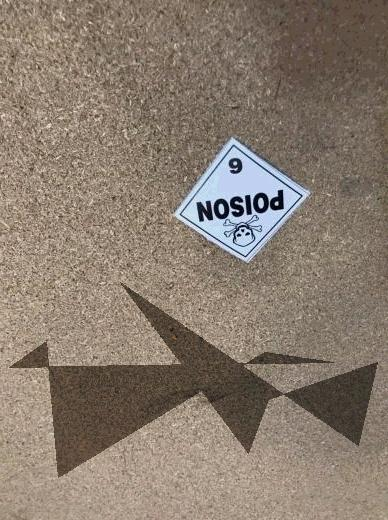poison: (173, 135, 311, 265)
